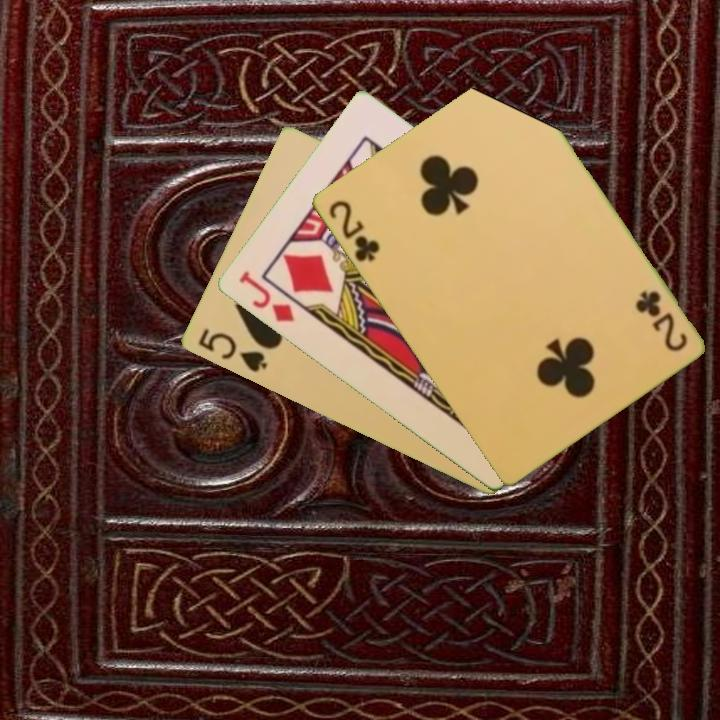2c: (631, 286, 690, 355), (324, 196, 382, 265)
5s: (193, 325, 270, 376)
Jd: (234, 267, 297, 326)
